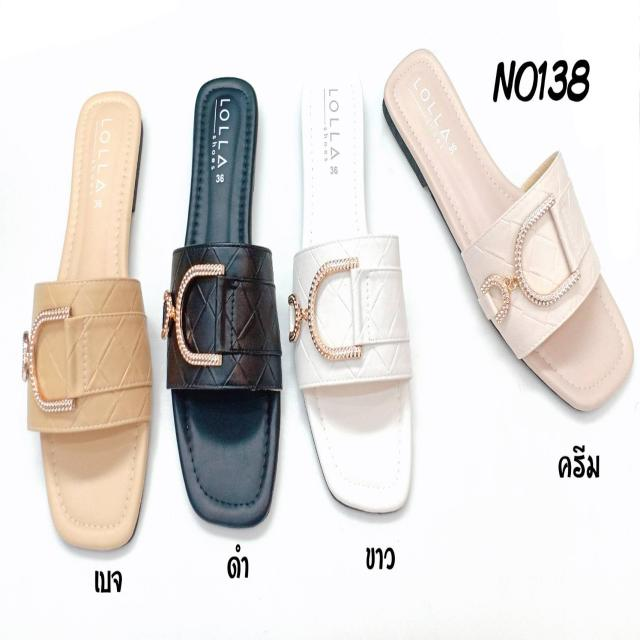bej: (31, 91, 154, 548)
cream: (388, 46, 633, 417), (170, 76, 286, 526)
white: (296, 66, 417, 508)
